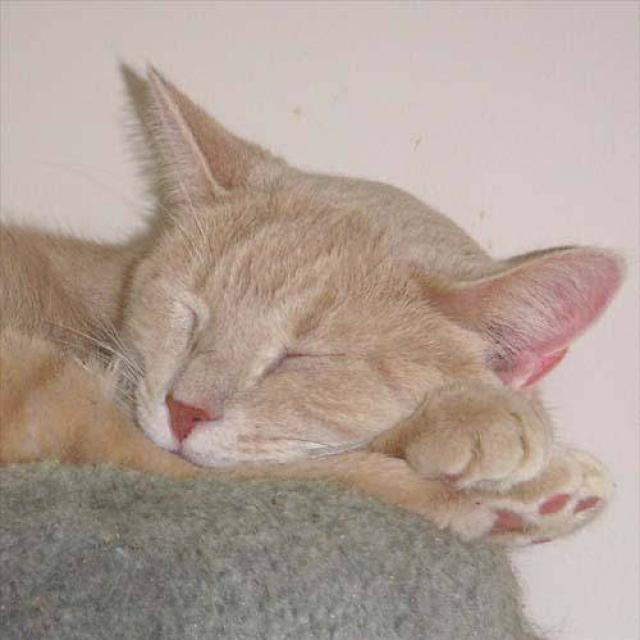cat: (0, 58, 627, 548)
